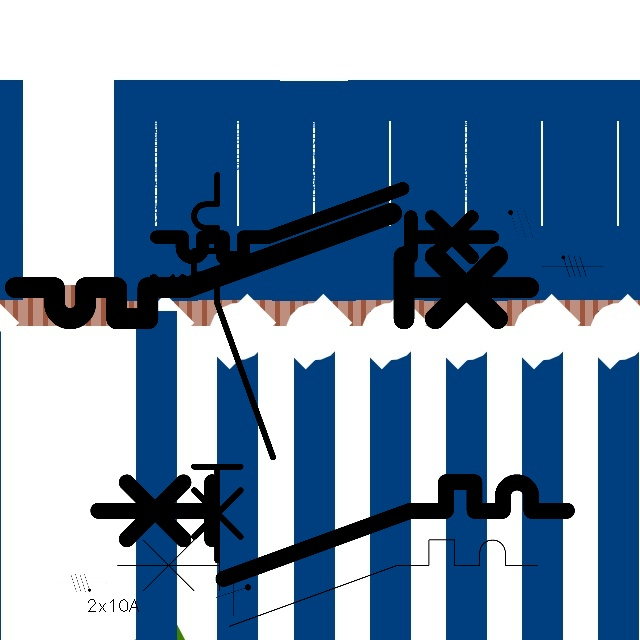interruptor_termomagnetico: (2, 200, 541, 332), (86, 470, 579, 590), (106, 529, 547, 637), (184, 165, 283, 570), (148, 180, 501, 266)
